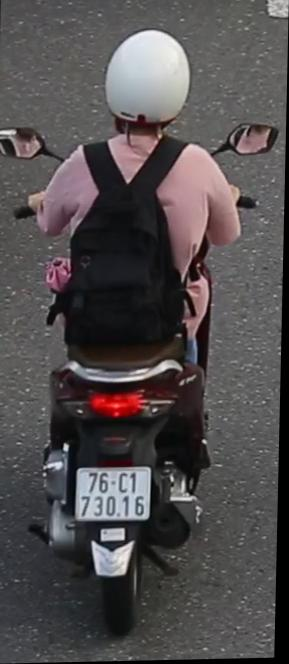LP: (75, 463, 156, 529)
helmet: (100, 22, 195, 156)
